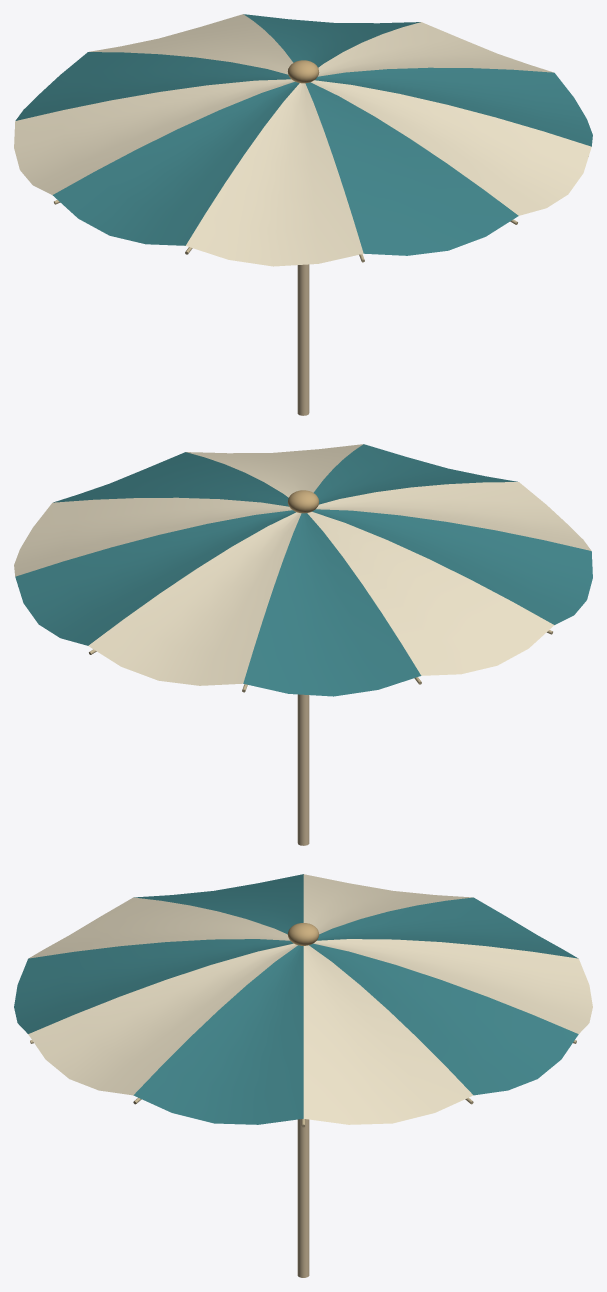
Rendered from umbrella.glb.
3 renders of one model, top to bottom at view 1: azimuth 30°, elevation 25°; view 2: azimuth 150°, elevation 25°; view 3: azimuth 270°, elevation 25°, orthographic.
Parts seen in each view (by area): view 1: FabricPanelAssembly (×2), Pole, Finial; view 2: FabricPanelAssembly (×2), Pole, Finial; view 3: FabricPanelAssembly (×2), Pole, Finial.
Part boxes in pixels (x1=…): FabricPanelAssembly (×2): x1=14, y1=14, x2=592, y2=266; Pole: x1=297, y1=264, x2=309, y2=415; Finial: x1=287, y1=60, x2=319, y2=83; FabricPanelAssembly (×2): x1=14, y1=444, x2=592, y2=696; Pole: x1=297, y1=694, x2=309, y2=845; Finial: x1=287, y1=490, x2=319, y2=513; FabricPanelAssembly (×2): x1=14, y1=874, x2=592, y2=1124; Pole: x1=297, y1=1119, x2=309, y2=1277; Finial: x1=287, y1=923, x2=319, y2=945.
Size of the model in its own units: 4.4 by 2.94 by 4.4.
